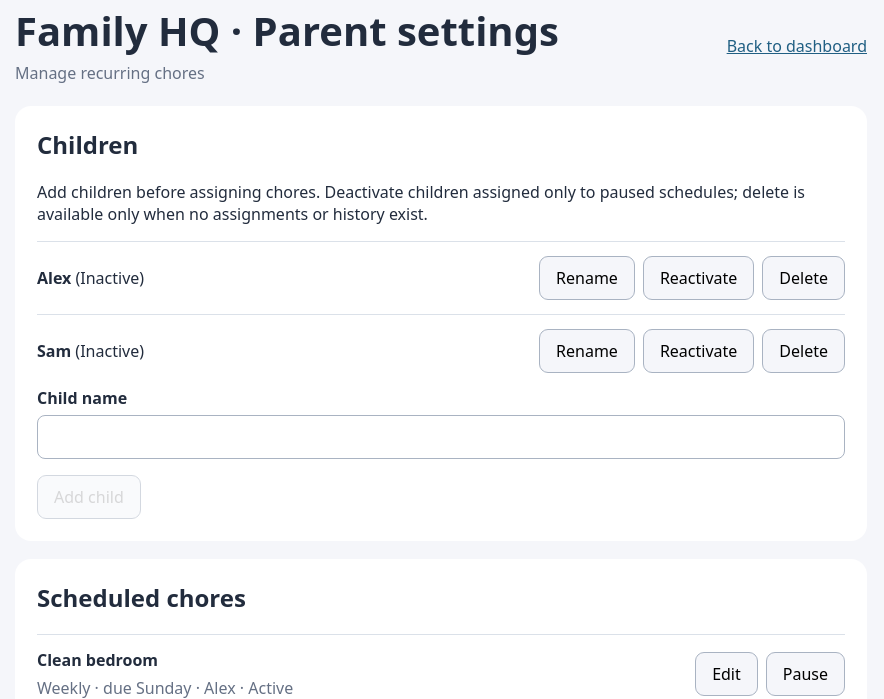
Test: concurrent parent operations › prevents a second pause action while the first PATCH is pending
expect the text "Clean bedroom" is shown: met, box [37,649,158,671]
Click the button "Pause".
click(805, 674)  # box [766,652,845,696]
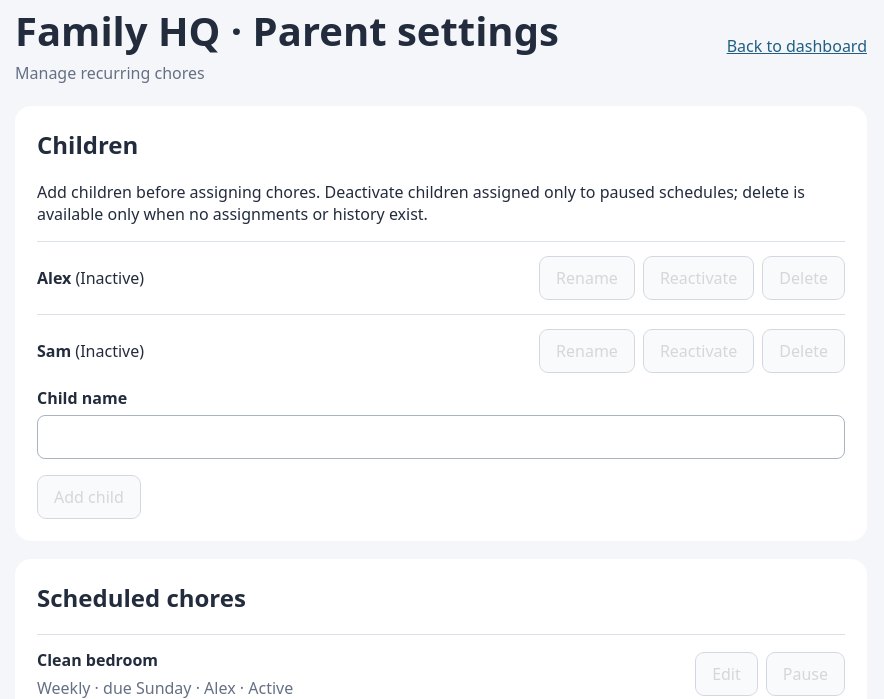
expect the button "Pause" is disabled: met
Click the button "Pause".
click(805, 674)  # box [766,652,845,696]
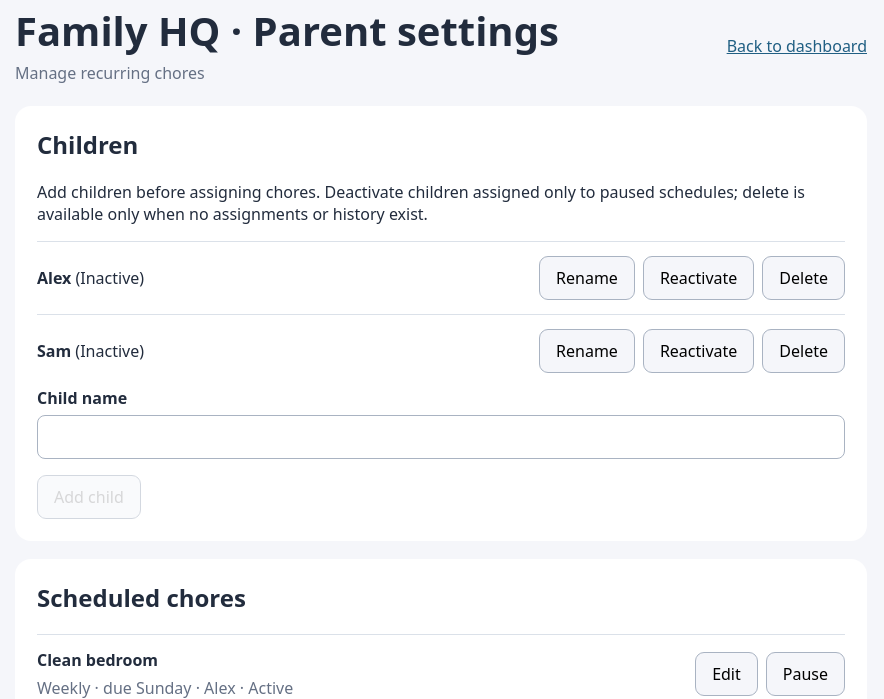
expect the button "Pause" is enabled: met, box [766,652,845,696]
